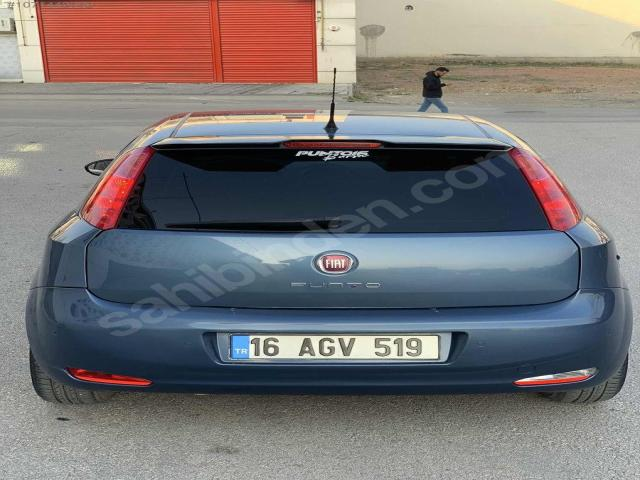plaka: (230, 335, 441, 361)
